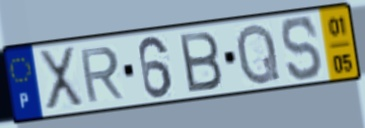6: (137, 33, 175, 101)
B: (176, 29, 225, 95)
Q: (234, 21, 283, 87)
R: (77, 44, 126, 105)
S: (279, 14, 326, 84)
X: (37, 44, 87, 112)
